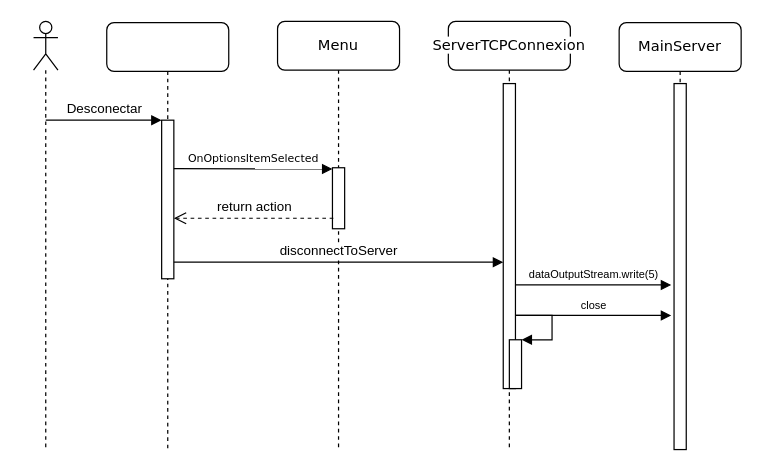
Some shapes in this 763 by 471 pixel diagram are drawn without their labels. Here are the shapes that lost their labels. From the top down, the box of each, then its label:
(32, 20, 58, 450): Usuario
(106, 21, 229, 450): HomeFragment
